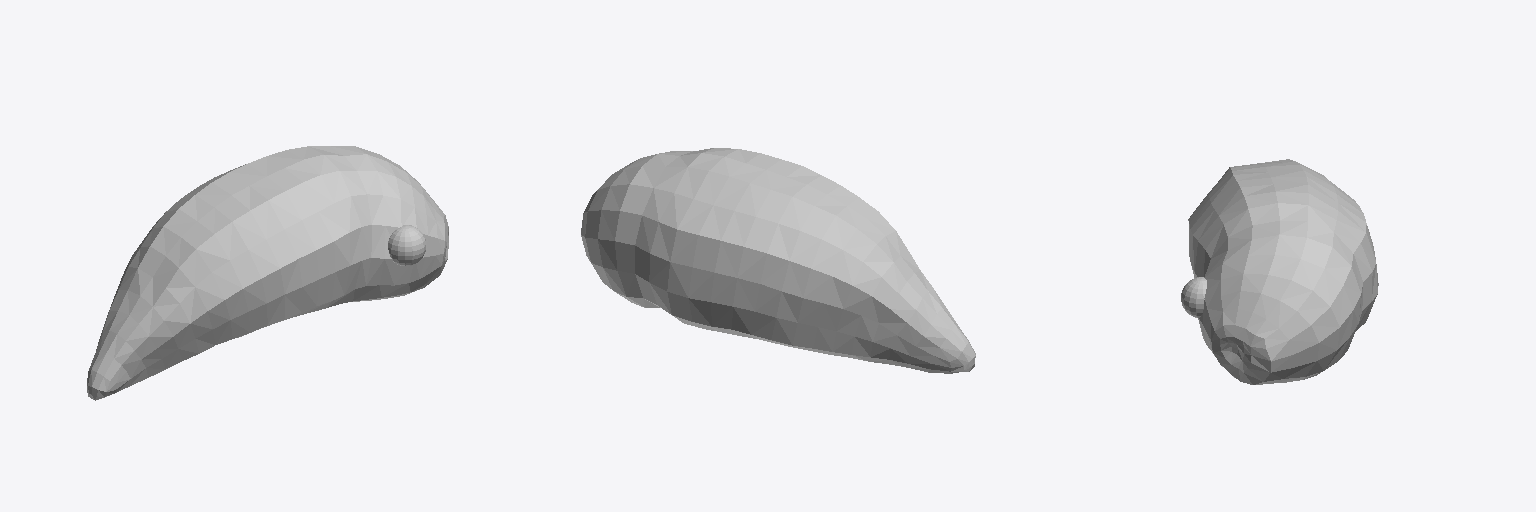
Rendered from Pathogen-reimagined.obj.
3 renders of one model, left to right at view 1: azimuth 30°, elevation 25°; view 2: azimuth 150°, elevation 25°; view 3: azimuth 270°, elevation 25°, orthographic.
Visible parts, largest first — view 1: Retopo_Creature-retopo.001_mesh.005, Creature-eye_Sphere; view 2: Retopo_Creature-retopo.001_mesh.005; view 3: Retopo_Creature-retopo.001_mesh.005, Creature-eye_Sphere.
Boxes of the visible parts, <box> form: Retopo_Creature-retopo.001_mesh.005: <box>87,146,448,400</box>; Creature-eye_Sphere: <box>388,225,425,265</box>; Retopo_Creature-retopo.001_mesh.005: <box>581,148,975,373</box>; Retopo_Creature-retopo.001_mesh.005: <box>1188,159,1378,384</box>; Creature-eye_Sphere: <box>1181,277,1206,317</box>.
Size of the model in its own units: 3.08 by 1.37 by 1.41.